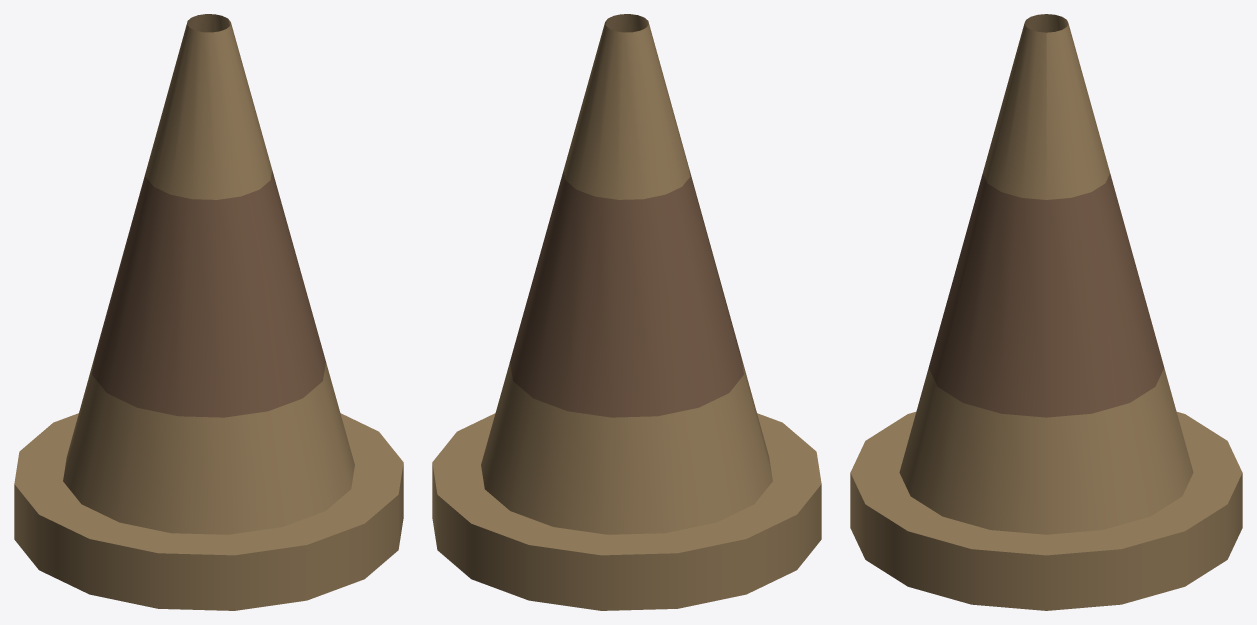
Rendered from Cono.fbx.
3 views of the same model, side by side, from view 1: azimuth 30°, elevation 25°; view 2: azimuth 150°, elevation 25°; view 3: azimuth 270°, elevation 25° (orthographic).
Visible parts, largest first — view 1: Circle; view 2: Circle; view 3: Circle.
Part boxes in pixels (left/top/right/bottom): Circle: left=14, top=14, right=403, bottom=610; Circle: left=432, top=14, right=821, bottom=610; Circle: left=850, top=14, right=1242, bottom=610.
Size of the model in its own units: 69.12 by 98.18 by 69.12.
